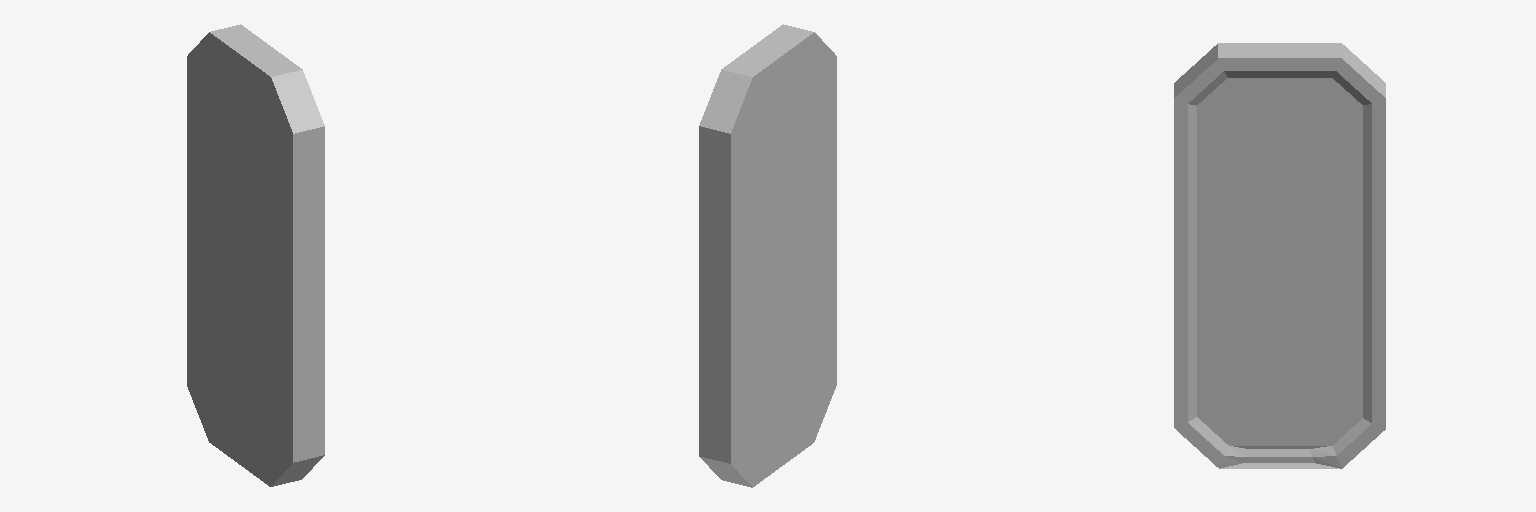
File: Smartphone.obj
The picture shows the model from 3 angles: view 1: azimuth 30°, elevation 25°; view 2: azimuth 150°, elevation 25°; view 3: azimuth 270°, elevation 25°; orthographic projection.
Parts seen in each view (by area): view 1: Cube; view 2: Cube; view 3: Cube.
Boxes of the visible parts, <box> form: Cube: <box>187,24,324,486</box>; Cube: <box>699,24,836,487</box>; Cube: <box>1174,43,1385,468</box>.
Bounding box in the file's own units: 0.161 × 2 × 0.9389.